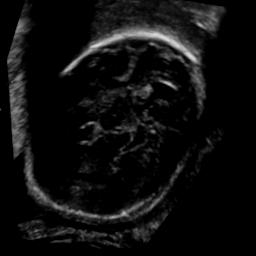normal: (13, 6, 232, 241)
